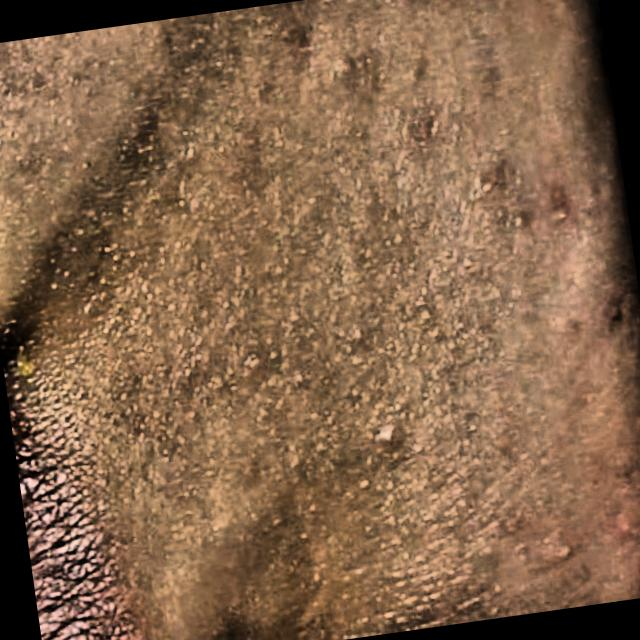whiteheads: (374, 421, 406, 448), (238, 348, 268, 374), (354, 474, 376, 496), (509, 210, 532, 231), (477, 177, 502, 196), (179, 141, 201, 162), (286, 308, 306, 326), (349, 323, 367, 342), (349, 351, 368, 369), (460, 253, 478, 271), (292, 369, 308, 389), (382, 603, 398, 621), (304, 499, 322, 514), (408, 552, 426, 566), (306, 193, 322, 208), (352, 562, 366, 579), (464, 420, 483, 432), (412, 440, 426, 456), (416, 285, 434, 297), (419, 310, 434, 322), (446, 342, 458, 352)
